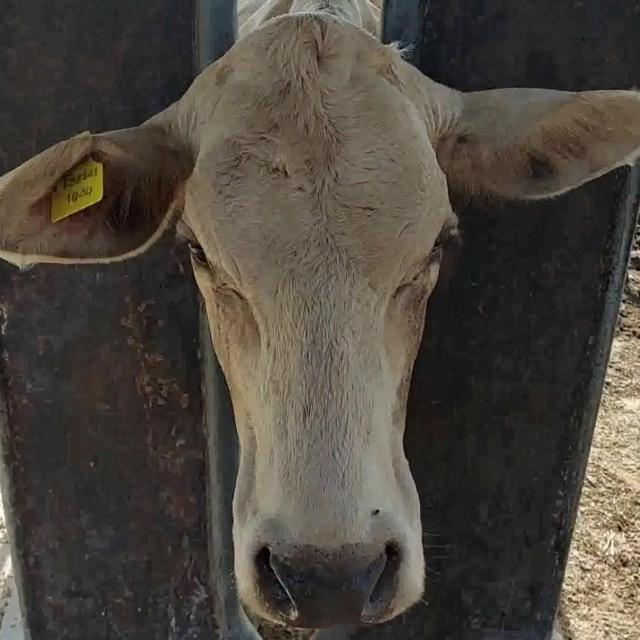cowFace: (186, 21, 454, 624)
